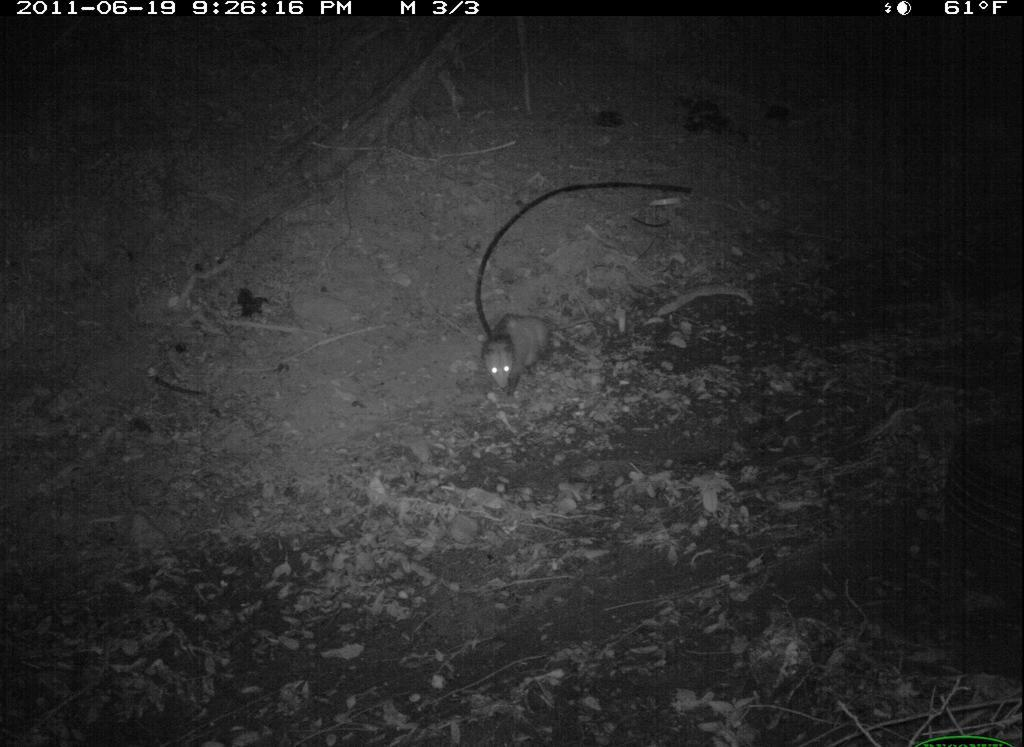opossum: (450, 278, 570, 406)
